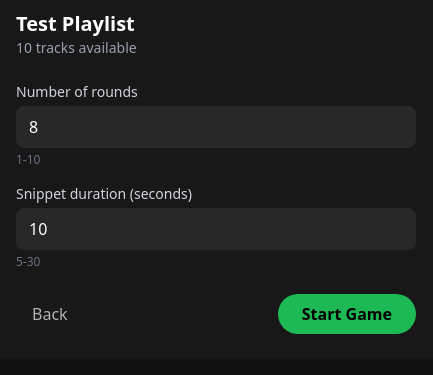
GameSettings › shows error for invalid round count
The width and height of the screenshot is (433, 375).
Replace the text in the number field labelled "Number of rounds" with "20". click: point(216, 127)
box: [16,106,416,148]
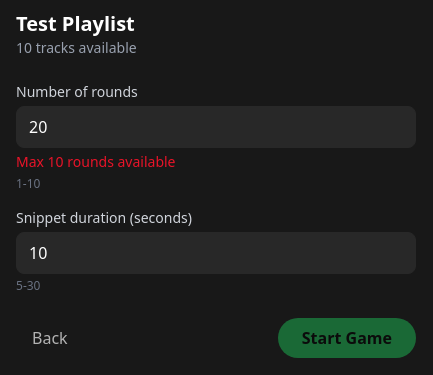
Now the text "Max 10 rounds available" is shown, box [16,152,176,171]
